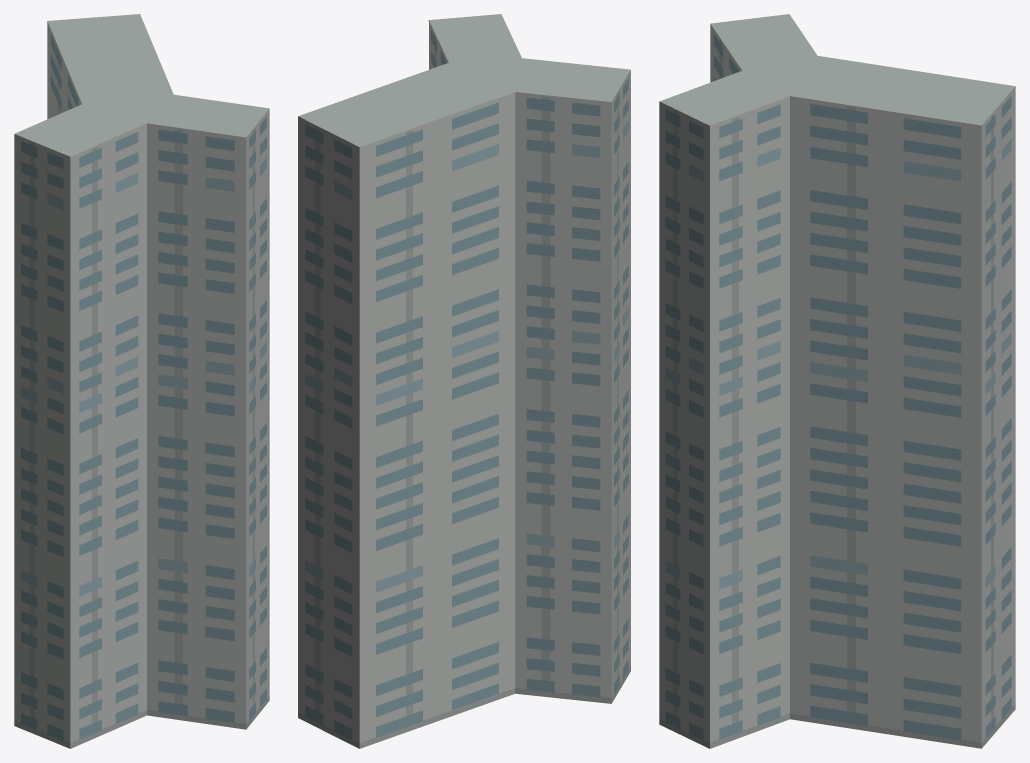
File: residential-a4c1ff3d-892e-41ed-a3b7-6709623248ef.glb
3 renders of one model, left to right at view 1: azimuth 30°, elevation 25°; view 2: azimuth 150°, elevation 25°; view 3: azimuth 270°, elevation 25°, orthographic. The views are drawn at different scales.
Visible parts, largest first — view 1: residential-a4c1ff3d-892e-41ed-a3b7-6709623248ef.tmp; view 2: residential-a4c1ff3d-892e-41ed-a3b7-6709623248ef.tmp; view 3: residential-a4c1ff3d-892e-41ed-a3b7-6709623248ef.tmp.
Boxes of the visible parts, bbox=[...] form: residential-a4c1ff3d-892e-41ed-a3b7-6709623248ef.tmp: bbox=[14, 14, 269, 748]; residential-a4c1ff3d-892e-41ed-a3b7-6709623248ef.tmp: bbox=[298, 14, 630, 748]; residential-a4c1ff3d-892e-41ed-a3b7-6709623248ef.tmp: bbox=[659, 14, 1015, 748].
Size of the model in its own units: 33.47 by 87 by 45.07.
